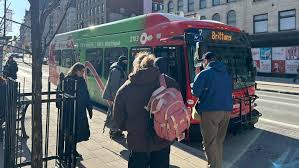bus: (47, 13, 258, 139)
